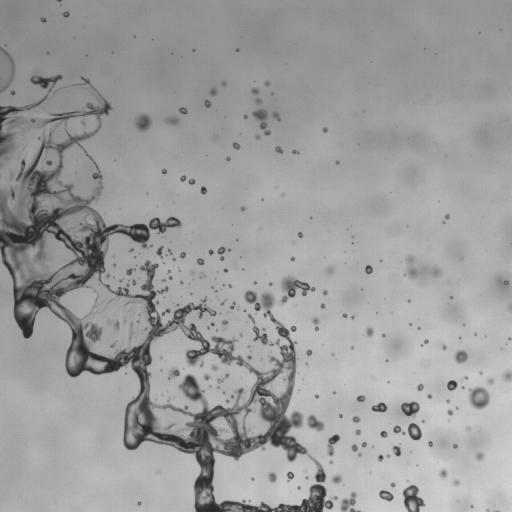droplet: (402, 485, 424, 511), (469, 386, 489, 409), (340, 492, 360, 511), (134, 114, 151, 131), (307, 414, 324, 431), (401, 401, 419, 417), (407, 422, 421, 440), (454, 350, 467, 363), (371, 402, 387, 412), (379, 490, 393, 501), (167, 367, 179, 379), (217, 246, 227, 260), (447, 380, 457, 390), (431, 267, 442, 276), (502, 370, 511, 381), (393, 425, 404, 434), (166, 117, 178, 125), (156, 246, 164, 257), (392, 445, 400, 456), (268, 472, 276, 482), (332, 475, 341, 483), (475, 452, 483, 460), (439, 469, 447, 477), (365, 265, 372, 274), (366, 327, 373, 336), (287, 471, 293, 481), (179, 107, 187, 114), (273, 112, 280, 120), (126, 268, 134, 275), (222, 320, 228, 329), (210, 88, 217, 95), (232, 142, 239, 149), (197, 258, 204, 265), (326, 267, 333, 274), (380, 430, 387, 437), (200, 186, 206, 194), (357, 395, 365, 401), (352, 416, 360, 422), (251, 88, 258, 94), (204, 100, 210, 107), (275, 147, 282, 153), (211, 364, 218, 370), (203, 374, 210, 380), (417, 384, 423, 391), (351, 444, 357, 451), (378, 454, 384, 461), (255, 98, 261, 104), (487, 378, 493, 384), (355, 429, 361, 435), (453, 479, 459, 485), (230, 302, 235, 309), (63, 12, 69, 17), (292, 149, 298, 154), (46, 160, 52, 165), (179, 252, 185, 257), (306, 349, 311, 355), (448, 409, 453, 415), (322, 127, 327, 132), (208, 249, 213, 254), (322, 290, 327, 295), (111, 342, 116, 347), (441, 345, 446, 350), (199, 273, 205, 277), (41, 17, 45, 22), (255, 135, 260, 139), (161, 169, 166, 173), (241, 206, 245, 211), (445, 214, 449, 219), (298, 232, 302, 237), (167, 249, 171, 254), (221, 300, 225, 305), (320, 304, 325, 308), (342, 313, 347, 317), (428, 441, 432, 446), (362, 442, 366, 447), (390, 483, 395, 487), (265, 81, 269, 85), (222, 82, 226, 86), (243, 114, 247, 118), (81, 120, 85, 124), (335, 160, 339, 164), (131, 280, 135, 284), (424, 339, 428, 343), (427, 394, 431, 398), (137, 501, 141, 505), (11, 90, 14, 94), (226, 157, 230, 160), (106, 274, 110, 277), (169, 275, 172, 279), (382, 333, 385, 337), (314, 394, 318, 397), (453, 444, 457, 447), (358, 452, 361, 456), (291, 257, 294, 260), (224, 269, 227, 272), (119, 279, 122, 282), (269, 282, 272, 285), (239, 333, 242, 336), (479, 371, 482, 374), (464, 376, 467, 379), (226, 399, 229, 402), (339, 414, 342, 417), (386, 454, 389, 457), (297, 486, 300, 489), (129, 249, 133, 251), (486, 509, 490, 511), (172, 258, 175, 260), (180, 281, 183, 283), (254, 281, 256, 284), (351, 316, 354, 318), (509, 337, 511, 340), (446, 400, 449, 402), (330, 460, 332, 463), (113, 264, 115, 266), (190, 271, 192, 273), (162, 279, 164, 281), (124, 320, 126, 322), (467, 427, 469, 429), (471, 505, 473, 507)
ligament: (0, 76, 330, 511), (0, 47, 14, 92), (253, 109, 270, 135), (404, 255, 417, 278), (327, 434, 339, 455), (180, 175, 195, 184), (107, 319, 119, 330), (217, 373, 228, 383), (312, 317, 319, 330), (498, 277, 508, 284), (129, 322, 133, 339), (206, 322, 214, 329), (248, 314, 254, 322), (106, 300, 111, 305), (508, 304, 511, 311), (495, 510, 499, 511), (57, 0, 60, 1)
